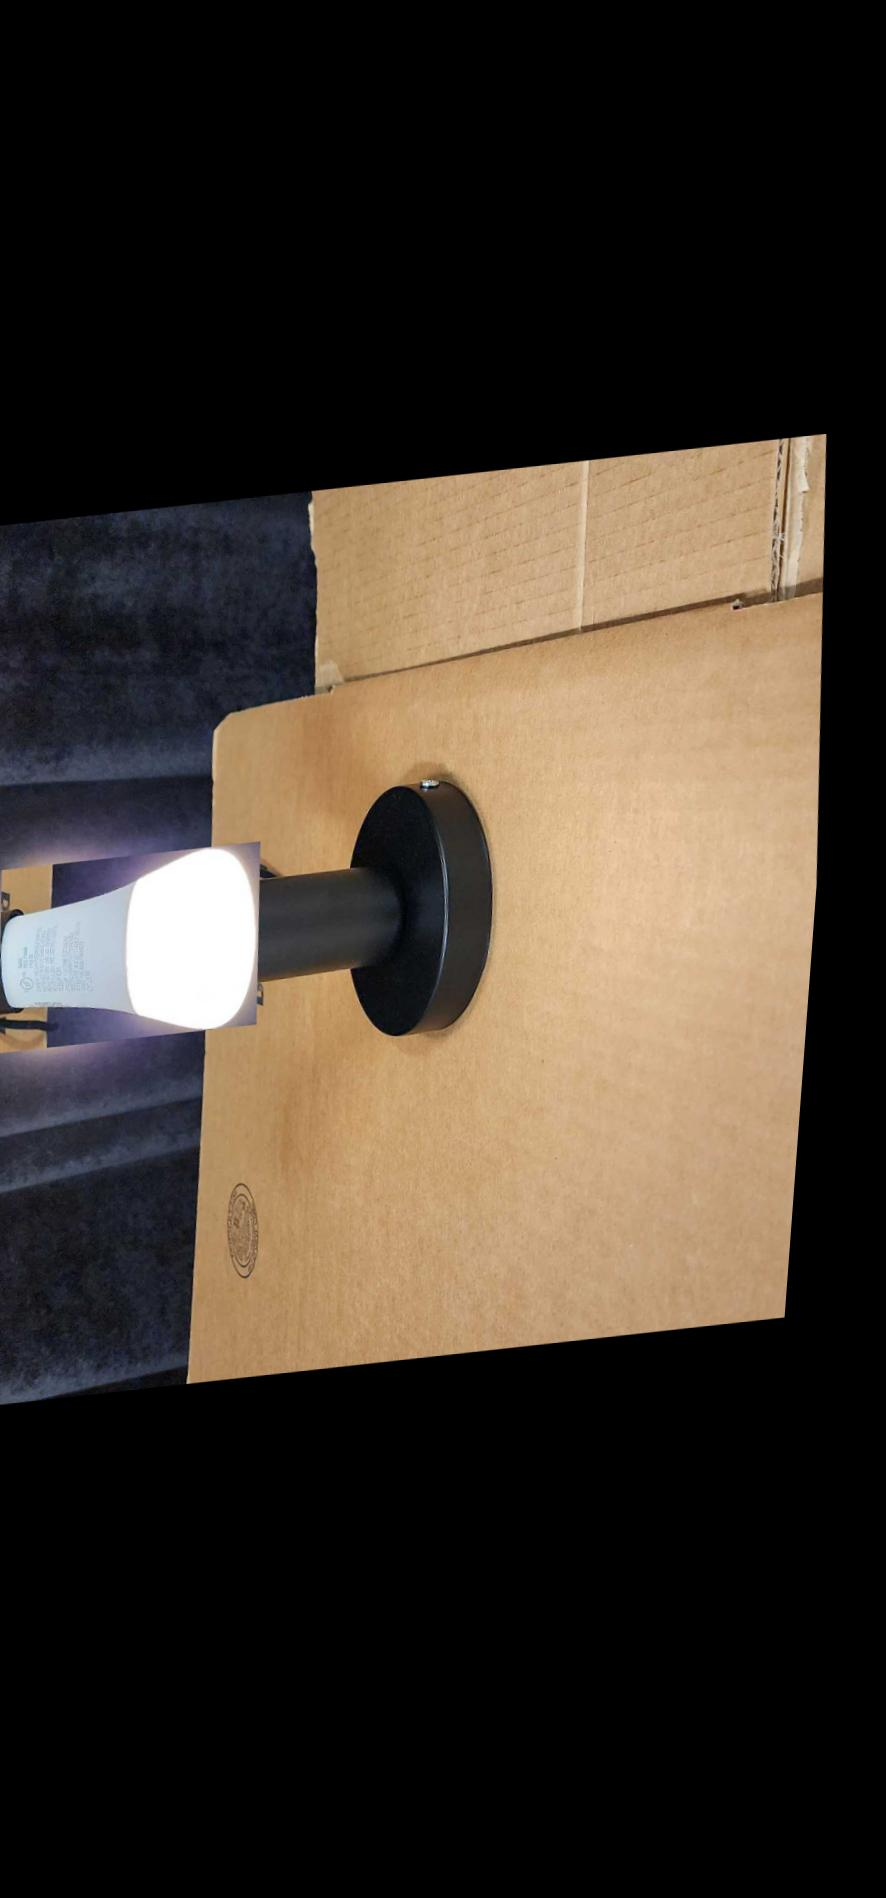TubeLight: (5, 844, 283, 1053)
